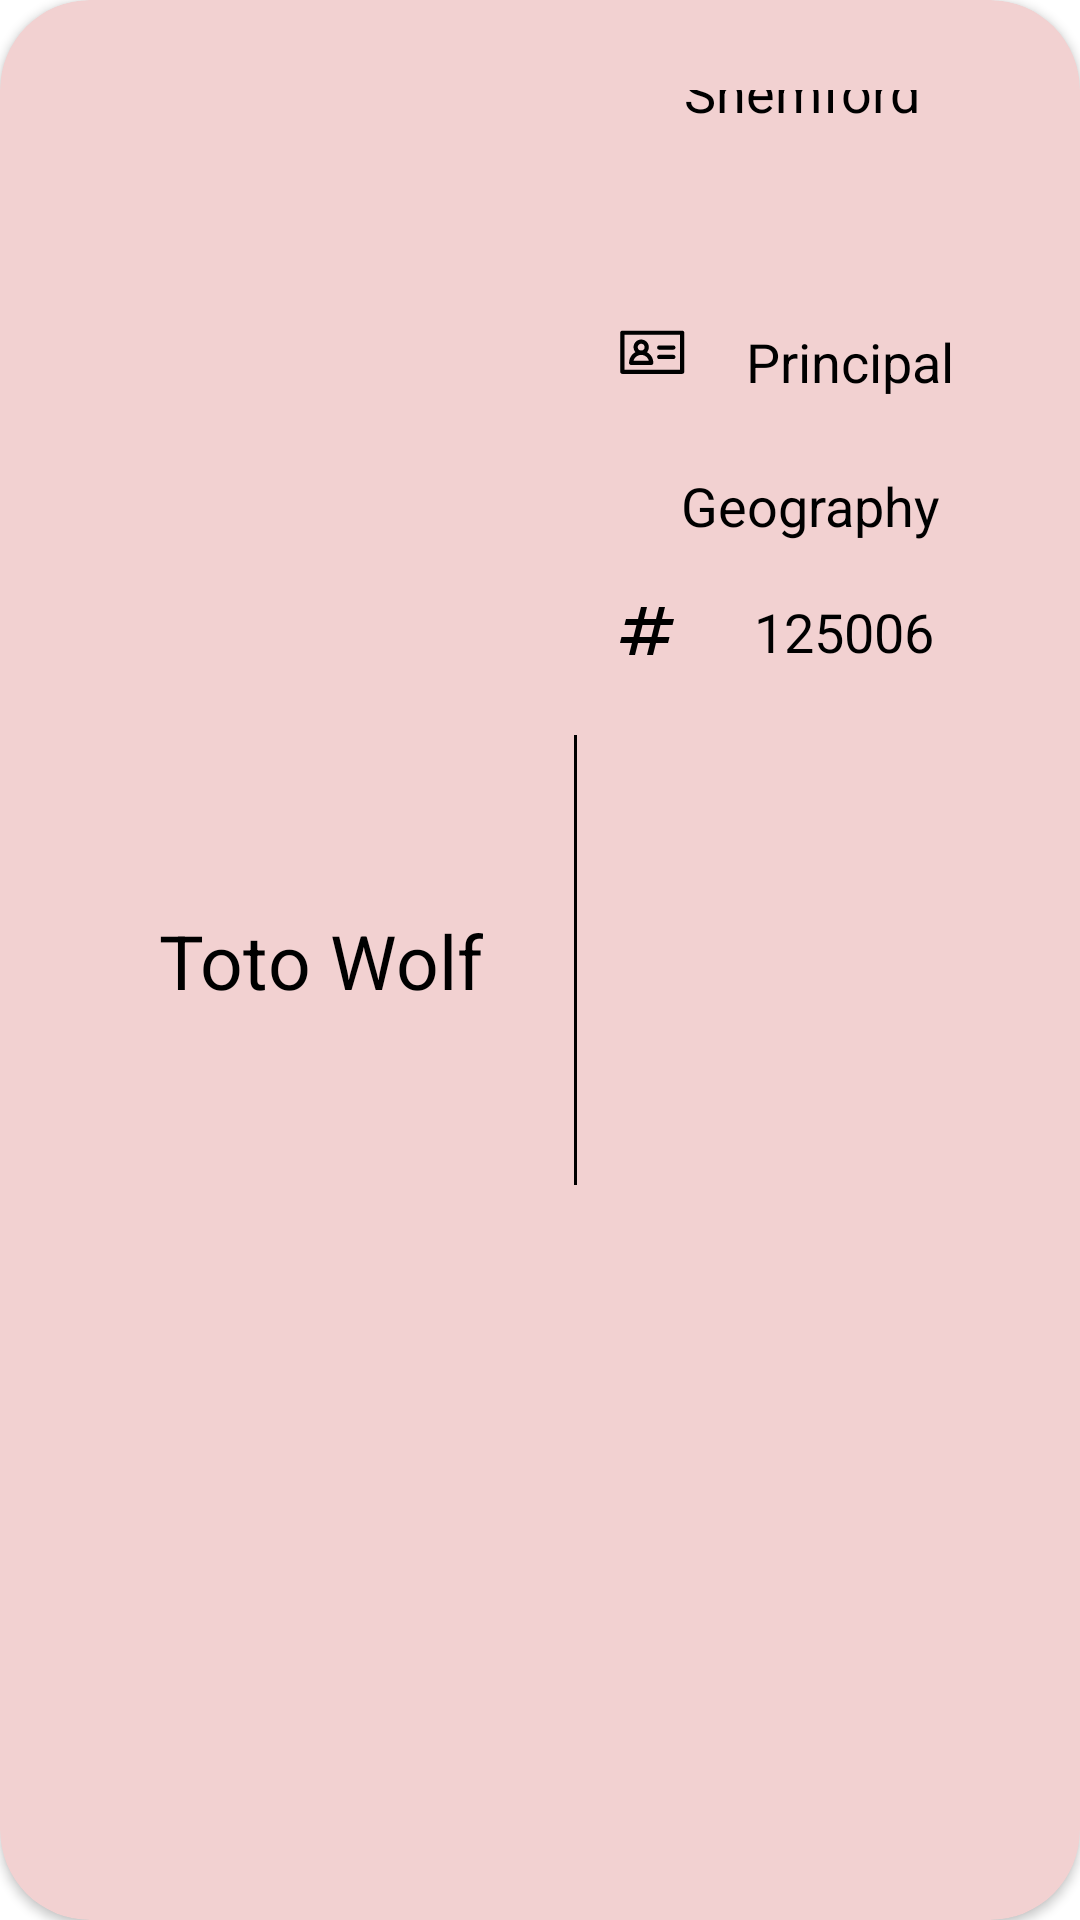

Locate icon controls on the screen. Image size 1080px x 1920px, boxes as (x1=x1, y1=y1, x2=x2, y2=y2).
card: (x1=620, y1=330, x2=685, y2=374)
numbers: (x1=620, y1=607, x2=674, y2=655)
